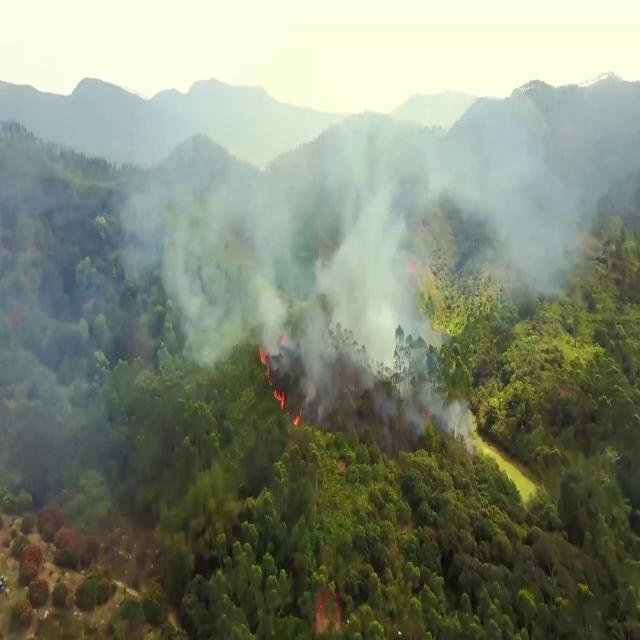Fire: (259, 352, 273, 386), (274, 389, 284, 409), (294, 414, 300, 426)
Smoke: (117, 92, 640, 455)
